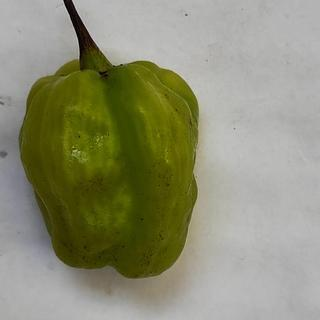Fly-bites: (57, 237, 75, 251), (92, 249, 106, 263), (135, 211, 150, 224), (119, 241, 132, 255), (77, 252, 89, 263), (81, 240, 91, 253)
